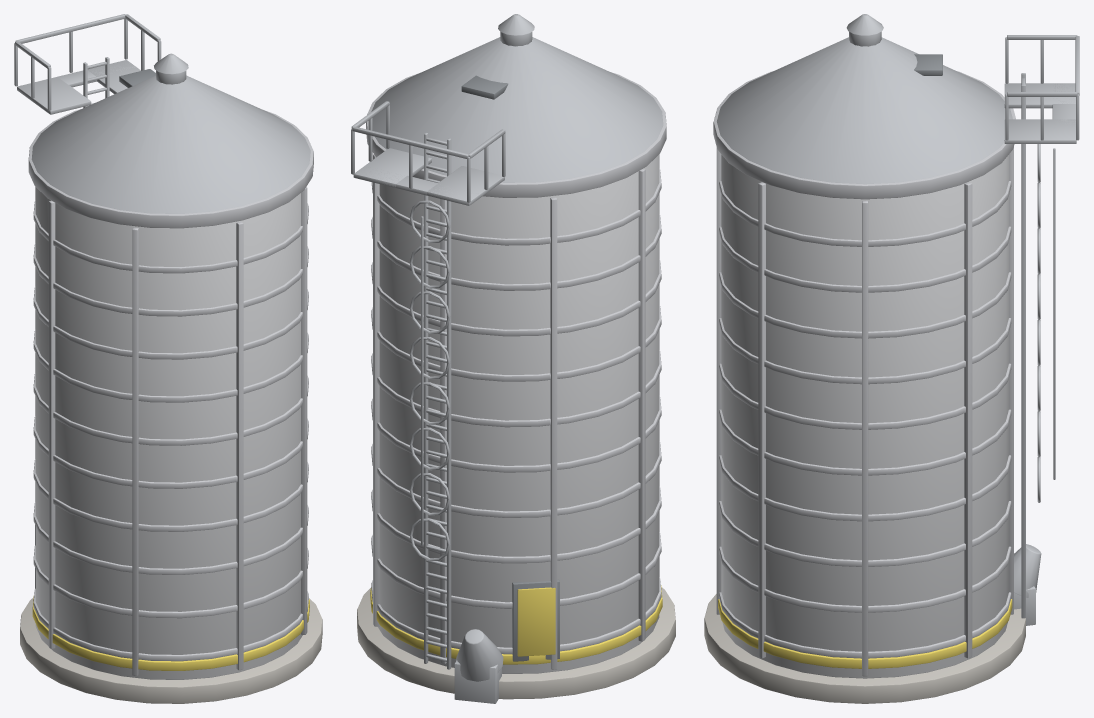
Rendered from th18_silo.glb.
3 renders of one model, left to right at view 1: azimuth 30°, elevation 25°; view 2: azimuth 150°, elevation 25°; view 3: azimuth 270°, elevation 25°, orthographic. The views are drawn at different scales.
Parts seen in each view (by area): view 1: Cylinder.001, Cone, Cylinder, Cylinder.012, Cube.006, Cube.004, Cube.005, Cube.007, Cylinder.014, Cylinder.002, Cylinder.011, Cylinder.003 (+12 smaller); view 2: Cylinder.001, Cone, Cylinder, Cylinder.012, Cube.004, Cube.003, Cube.001, Cube.011, Cylinder.014, Cube.012, Cube.002, Cube.013 (+20 smaller); view 3: Cylinder.001, Cone, Cylinder, Cylinder.012, Cube.001, Cube.007, Cube, Cylinder.014, Cube.013, Cube.006, Cylinder.006, Cylinder.005 (+14 smaller).
Part boxes in pixels (x1,y1,x2,y2): Cylinder.001: (35, 187, 302, 679); Cone: (31, 75, 310, 213); Cylinder: (20, 597, 322, 703); Cylinder.012: (28, 109, 313, 228); Cube.006: (236, 221, 243, 670); Cube.004: (48, 200, 55, 649); Cube.005: (132, 227, 138, 675); Cube.007: (301, 187, 307, 634); Cylinder.014: (32, 596, 309, 670); Cylinder.002: (33, 588, 308, 661); Cylinder.011: (33, 201, 308, 273); Cylinder.003: (33, 545, 308, 618); Cylinder.001: (377, 154, 659, 673); Cone: (371, 37, 663, 182); Cylinder: (357, 587, 675, 699); Cylinder.012: (366, 72, 666, 197); Cube.004: (638, 169, 645, 641); Cube.003: (550, 197, 557, 669); Cube.001: (373, 154, 379, 626); Cube.011: (517, 587, 555, 656); Cylinder.014: (370, 585, 662, 664); Cube.012: (447, 138, 451, 669); Cube.002: (440, 199, 446, 663); Cube.013: (424, 132, 428, 663); Cylinder.001: (721, 154, 1008, 678); Cone: (717, 37, 1012, 184); Cylinder: (704, 594, 1025, 703); Cylinder.012: (713, 71, 1015, 199); Cube.001: (964, 182, 972, 658); Cube.007: (758, 182, 765, 658); Cube: (862, 200, 868, 676); Cylinder.014: (718, 599, 1012, 668); Cube.013: (1021, 84, 1025, 618); Cube.006: (716, 148, 721, 614); Cylinder.006: (719, 409, 1011, 475); Cylinder.005: (719, 455, 1011, 521).
Size of the model in its own units: 6.7 by 14.27 by 7.81.
